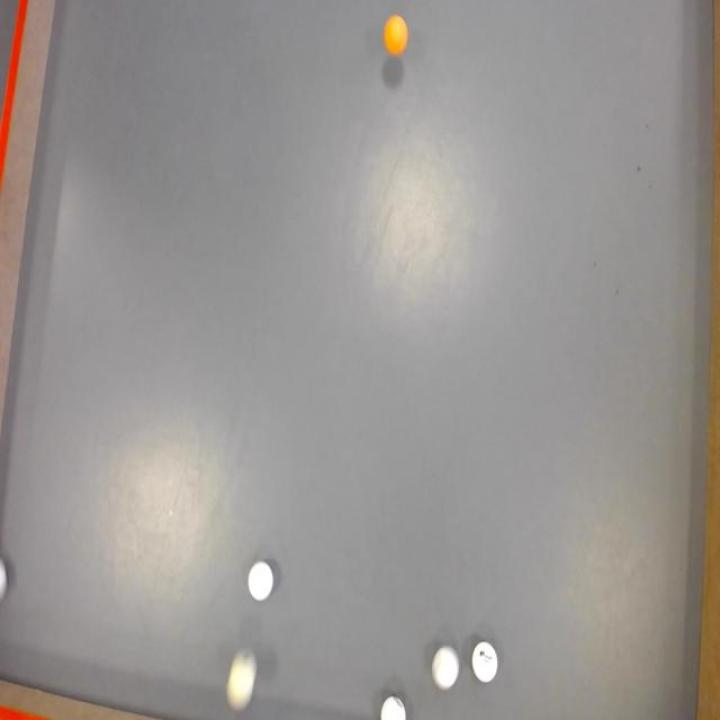orange: (382, 15, 408, 55)
white: (227, 652, 258, 706), (432, 647, 460, 689), (470, 642, 498, 682), (248, 561, 274, 600), (380, 695, 406, 720)
